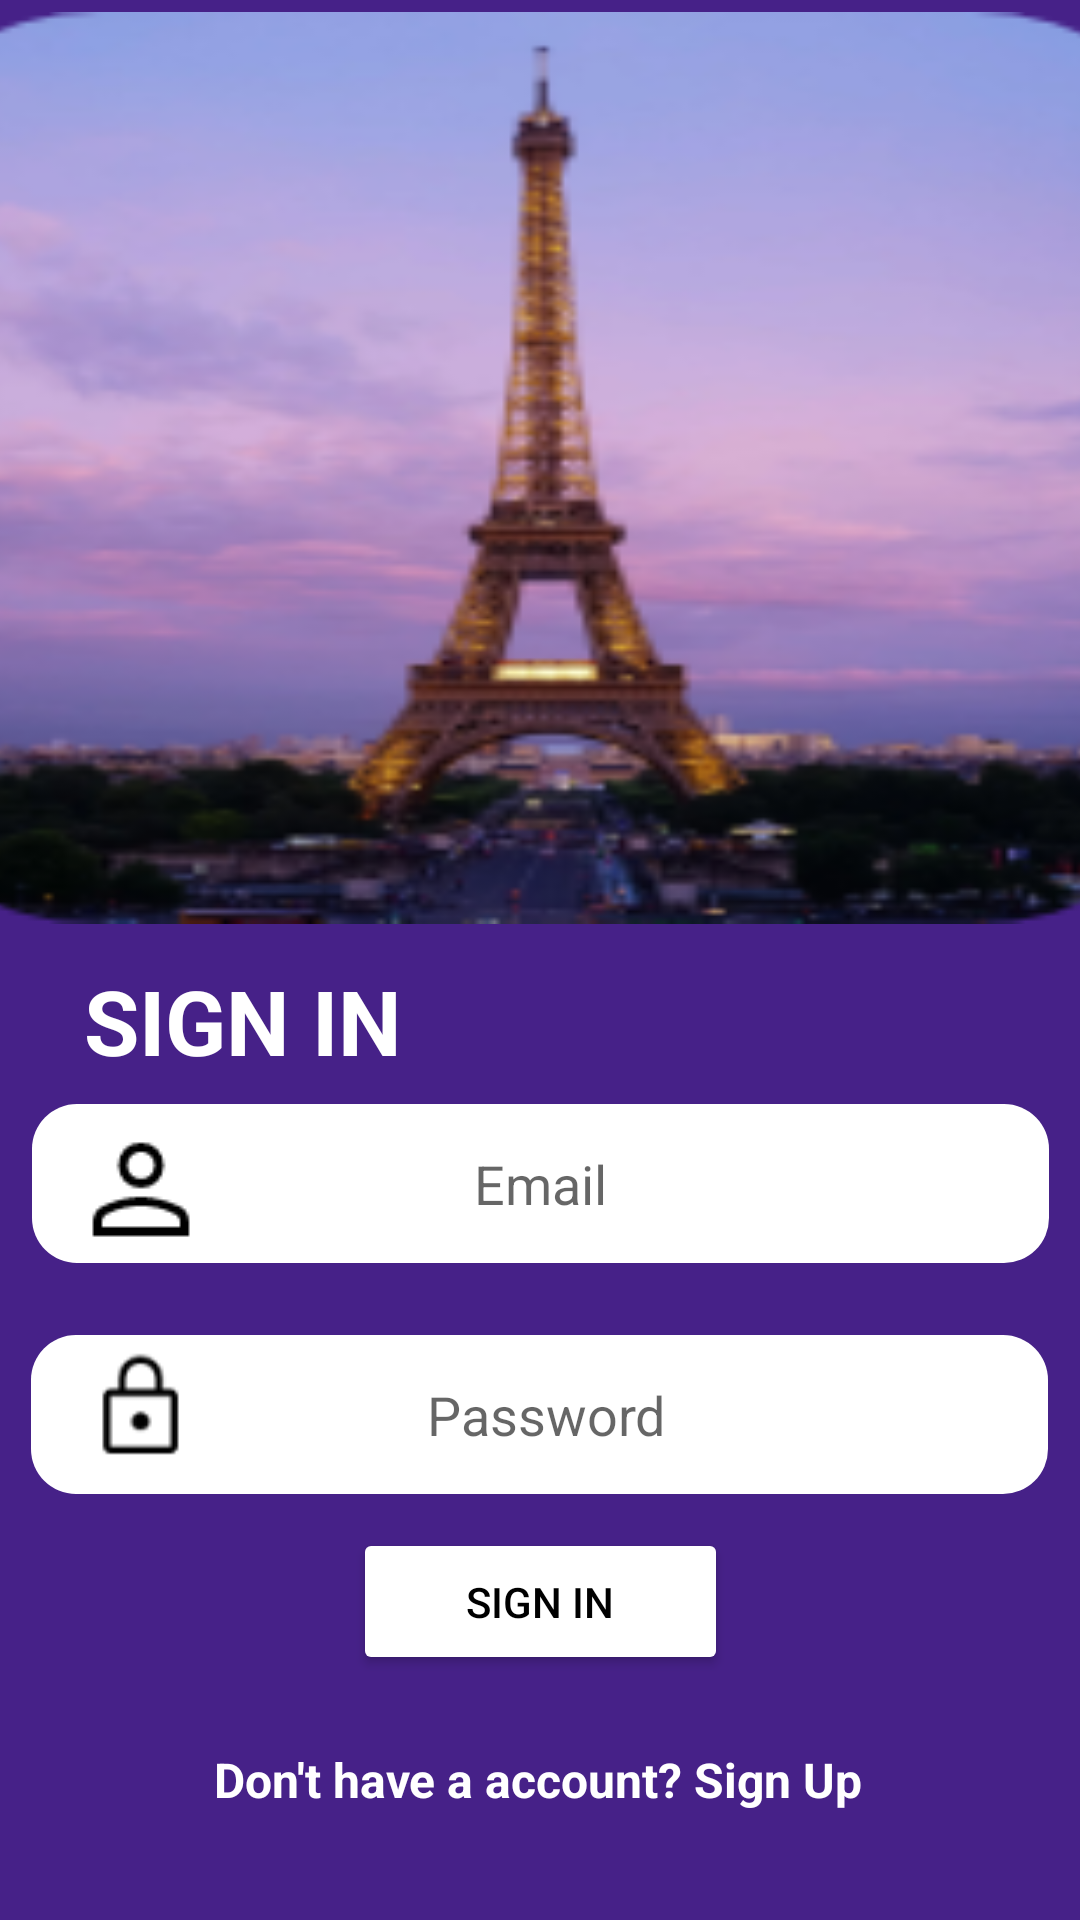

Where icons sit on this 1080*1920 app screen, as bbox=(x1, y1, x2, y2):
passowrd: bbox=(102, 1354, 179, 1455)
user: bbox=(92, 1142, 190, 1237)
